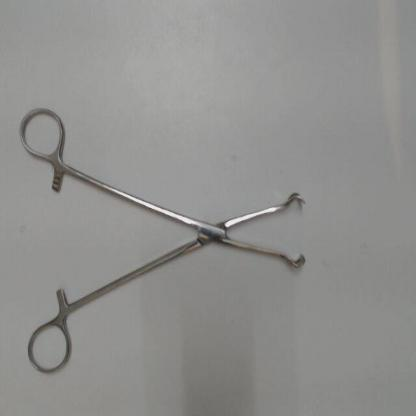8 Babcock Tissue Forceps: (14, 97, 309, 379)
